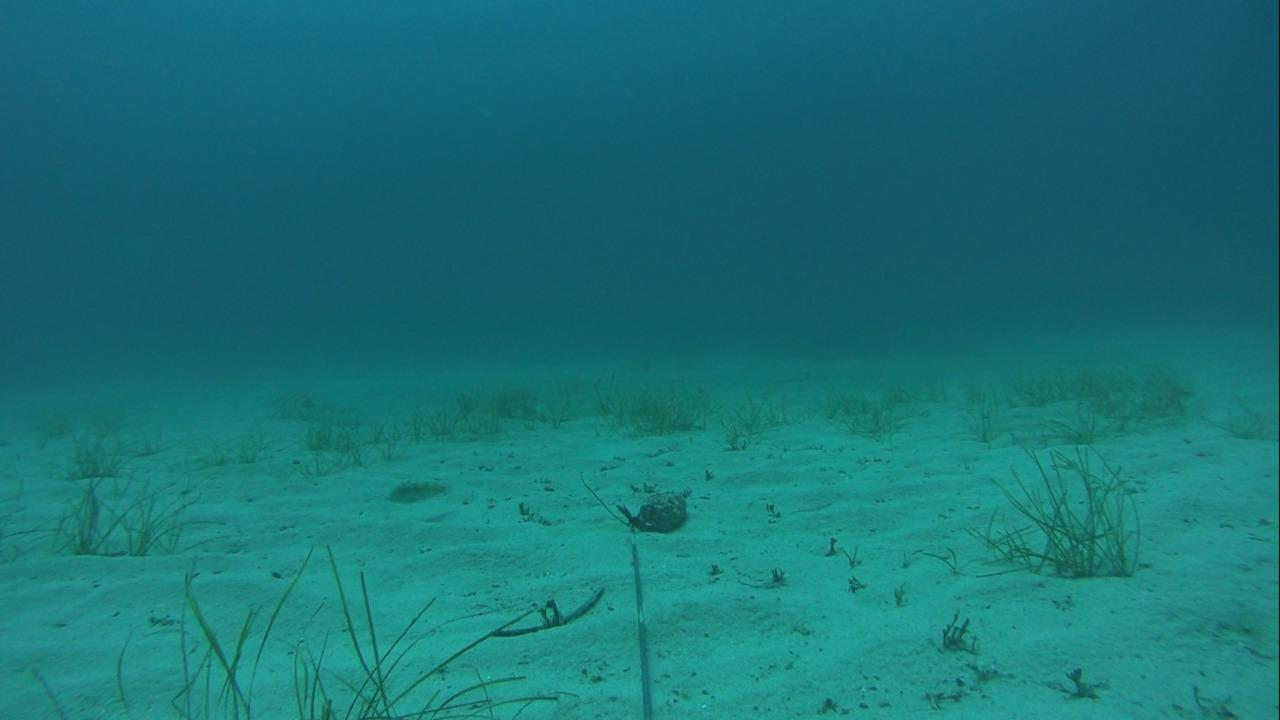raor: (380, 477, 454, 505)
